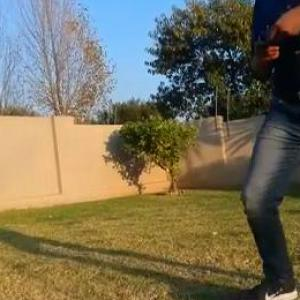follow: (234, 0, 300, 299)
